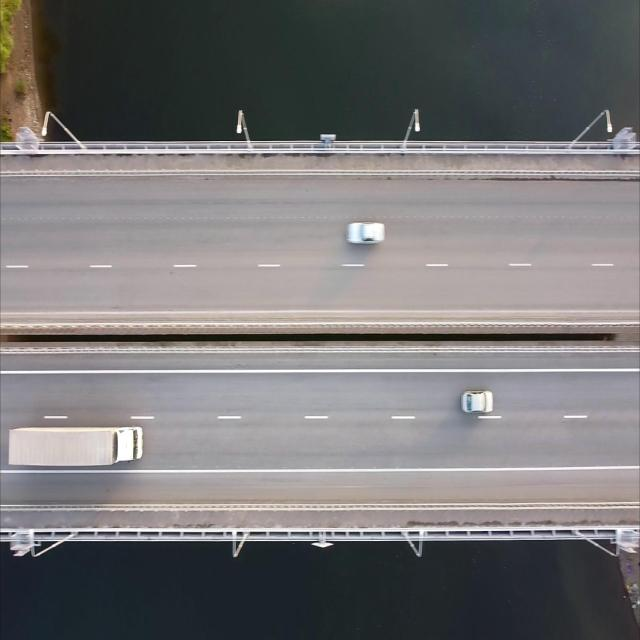Car: (346, 222, 385, 245), (460, 389, 494, 414)
Truck: (8, 424, 144, 468)
